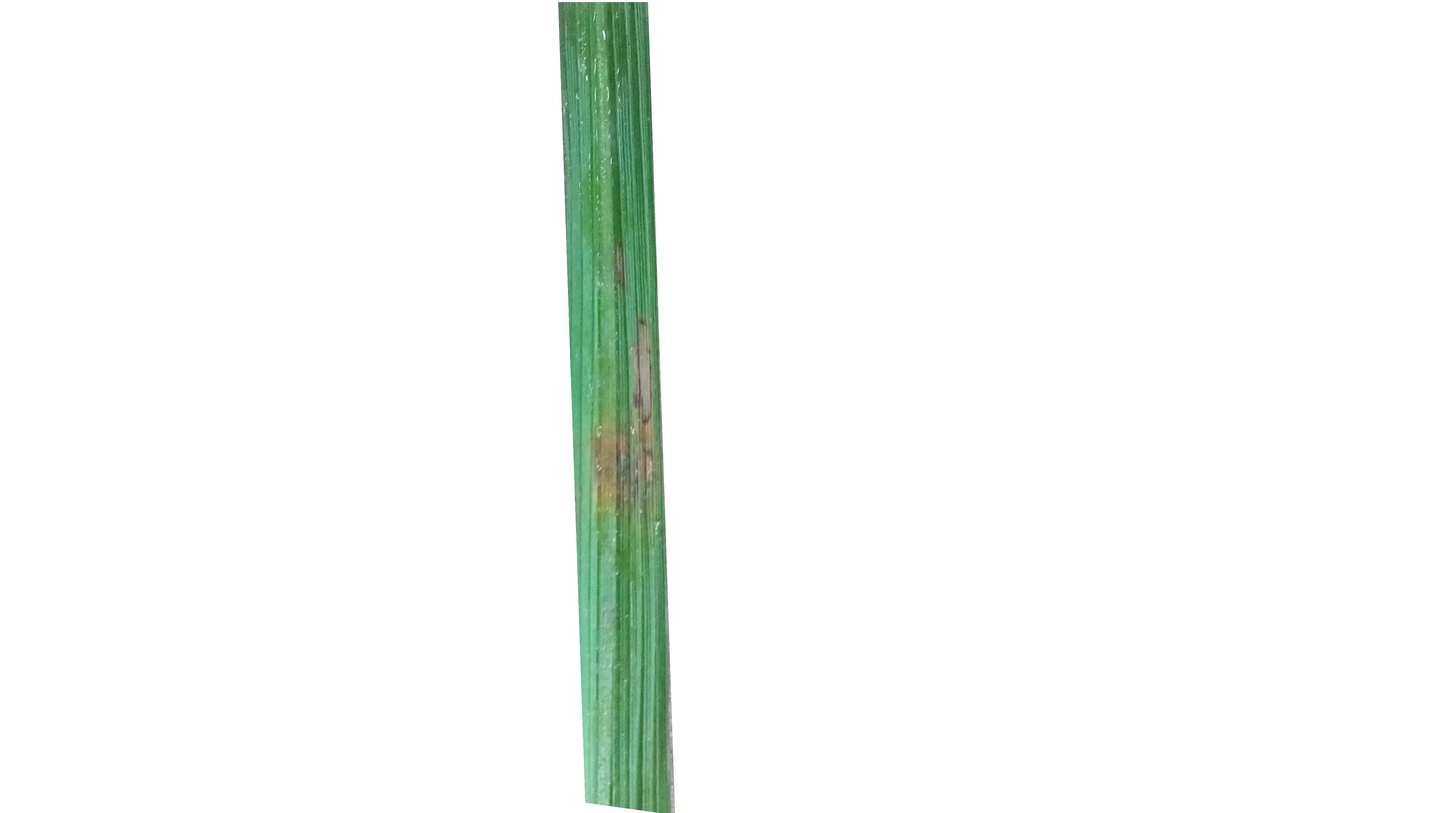Rice blast: (594, 280, 662, 526)
